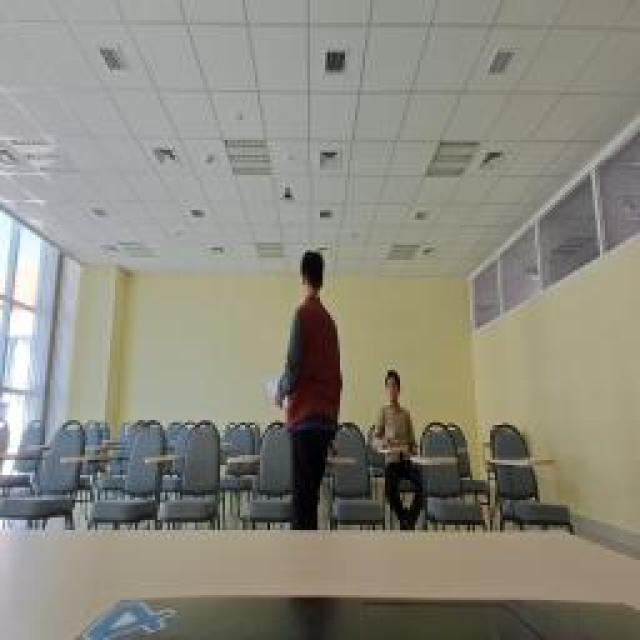study: (372, 368, 418, 462)
